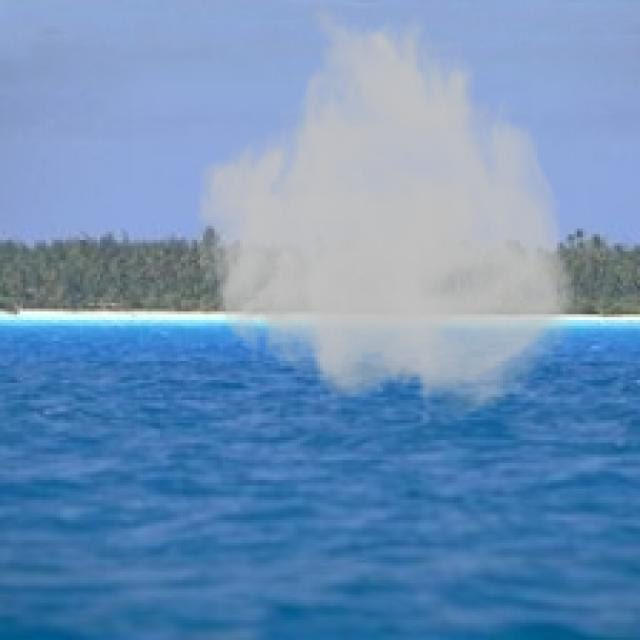Smoke: (191, 0, 580, 420)
